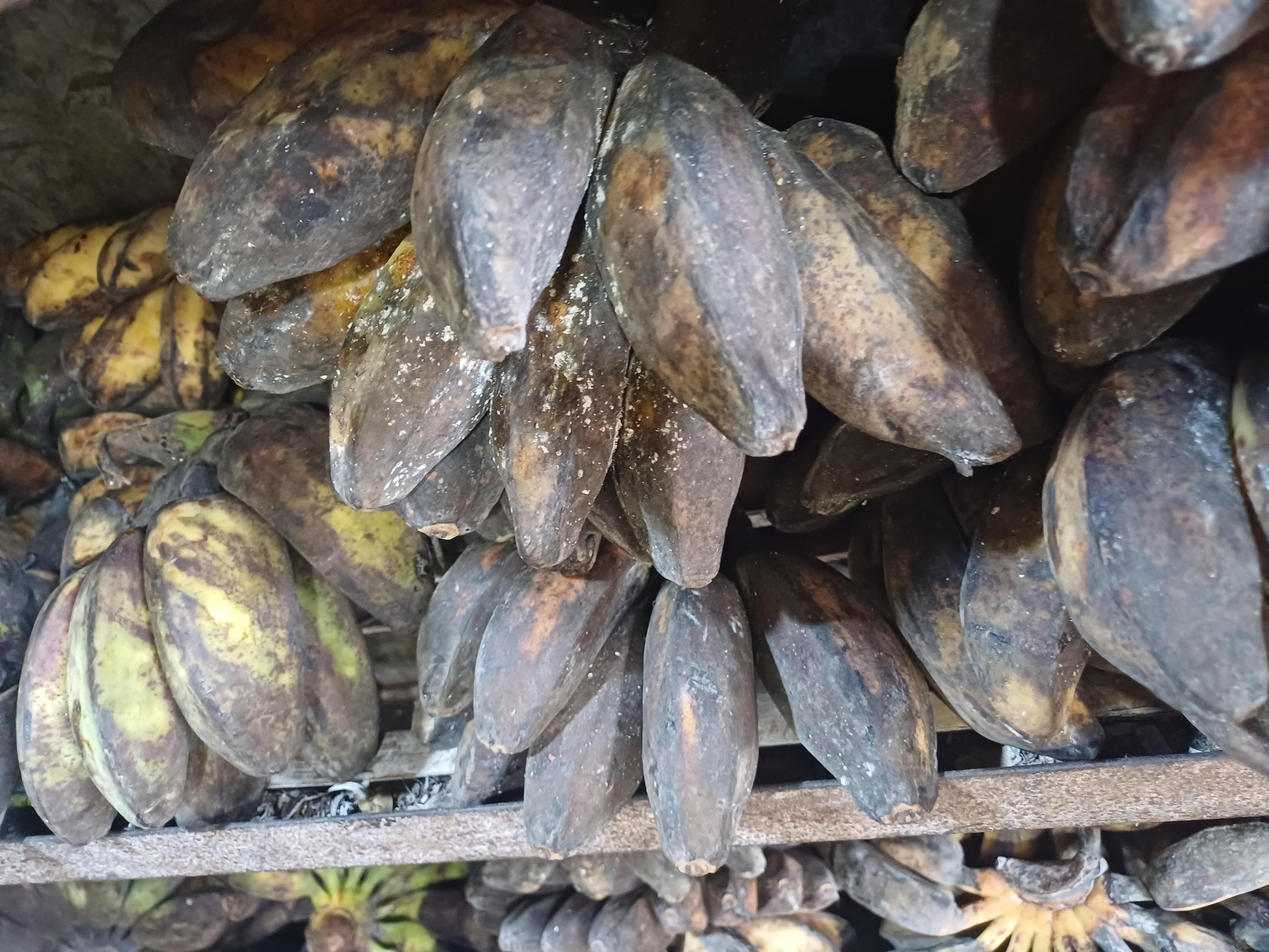overripe: (108, 0, 1066, 589), (412, 537, 942, 878), (888, 0, 1269, 397), (848, 442, 1173, 762), (1049, 338, 1269, 728), (466, 846, 834, 952)
ripe: (0, 203, 228, 417)
underripe: (15, 404, 437, 849)
